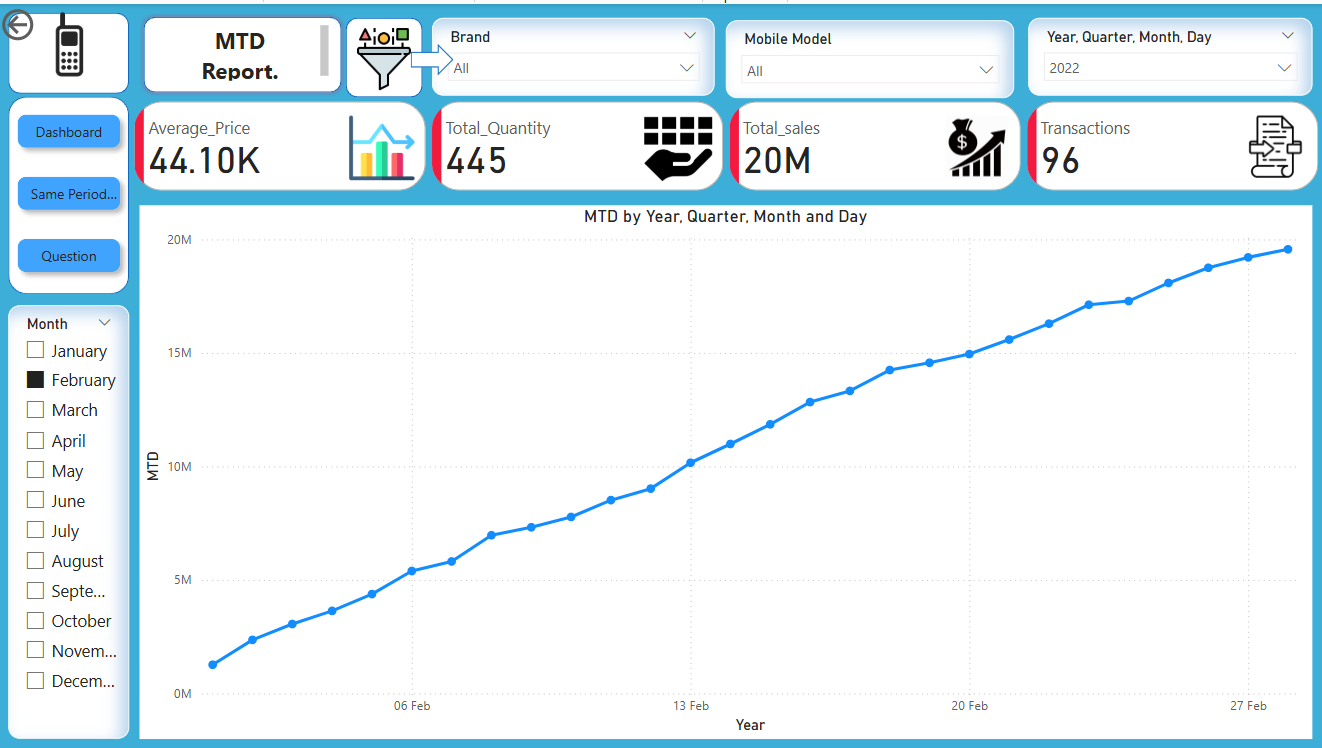

The dashboard page shown, as its layout file describes it:
{"tool":"powerbi","page":{"name":"MTD_report","canvas":[1280,720],"ordinal":1},"visuals":[{"type":"shape","box":[11,8.2,116.6,78.2],"z":0},{"type":"image","box":[22,0,94.7,78.2],"z":1000},{"type":"shape","box":[11,89.2,116.6,190.7],"z":2000},{"type":"shape","box":[11,290.9,116.6,418.5],"z":3000},{"type":"cardVisual","fields":{"Data":["sales_data.Average_Price","sales_data.Total_Quantity","sales_data.Total_sales","sales_data.Transactions"]},"box":[127.6,89.2,1152.7,96.1],"z":4000},{"type":"slicer","fields":{"Values":["Custom_Calender.date.Variation.Date Hierarchy.Year","Custom_Calender.date.Variation.Date Hierarchy.Quarter","Custom_Calender.date.Variation.Date Hierarchy.Month","Custom_Calender.date.Variation.Date Hierarchy.Day"]},"box":[994.9,13.7,274.4,75.5],"z":5000},{"type":"slicer","fields":{"Values":["sales_data.Mobile Model"]},"box":[703.9,15.1,278.6,75.5],"z":6000},{"type":"slicer","fields":{"Values":["sales_data.Brand"]},"box":[419.9,13.7,273.1,75.5],"z":7000},{"type":"shape","box":[336.2,13.7,74.1,76.8],"z":8000},{"type":"image","box":[336.2,8.2,74.1,89.2],"z":9000},{"type":"shape","box":[399.3,38.4,41.2,30.2],"z":10000},{"type":"shape","box":[137.2,8.2,199,81],"z":11000},{"type":"textbox","box":[152.3,15.1,172.9,63.1],"z":12000},{"type":"actionButton","box":[0,0,100,40],"z":13000},{"type":"slicer","fields":{"Values":["Custom_Calender.date.Variation.Date Hierarchy.Month"]},"box":[10.9,290.8,117,418.6],"z":14000},{"type":"lineChart","fields":{"Y":["sales_data.MTD"],"Category":["Custom_Calender.date.Variation.Date Hierarchy.Year","Custom_Calender.date.Variation.Date Hierarchy.Quarter","Custom_Calender.date.Variation.Date Hierarchy.Month","Custom_Calender.date.Variation.Date Hierarchy.Day"]},"box":[137.5,194.2,1131.6,515.2],"z":15000},{"type":"pageNavigator","box":[10.9,97.7,117,171.3],"z":15001}]}

Visuals, with their boxes in screenshot pixels (x1, y1, x2, y2), scaled from the page's 1280x720 canvas onto the 1322x748 screenshot:
shape: locate(11, 9, 132, 90)
image: locate(23, 0, 121, 81)
shape: locate(11, 93, 132, 291)
shape: locate(11, 302, 132, 737)
cardVisual - sales_data.Average_Price x sales_data.Total_Quantity: locate(132, 93, 1321, 193)
slicer - Custom_Calender.date.Variation.Date Hierarchy.Year x Custom_Calender.date.Variation.Date Hierarchy.Quarter: locate(1028, 14, 1311, 93)
slicer - sales_data.Mobile Model: locate(727, 16, 1015, 94)
slicer - sales_data.Brand: locate(434, 14, 716, 93)
shape: locate(347, 14, 424, 94)
image: locate(347, 9, 424, 101)
shape: locate(412, 40, 455, 71)
shape: locate(142, 9, 347, 93)
textbox: locate(157, 16, 336, 81)
actionButton: locate(0, 0, 103, 42)
slicer - Custom_Calender.date.Variation.Date Hierarchy.Month: locate(11, 302, 132, 737)
lineChart - sales_data.MTD x Custom_Calender.date.Variation.Date Hierarchy.Year: locate(142, 202, 1311, 737)
pageNavigator: locate(11, 101, 132, 279)
